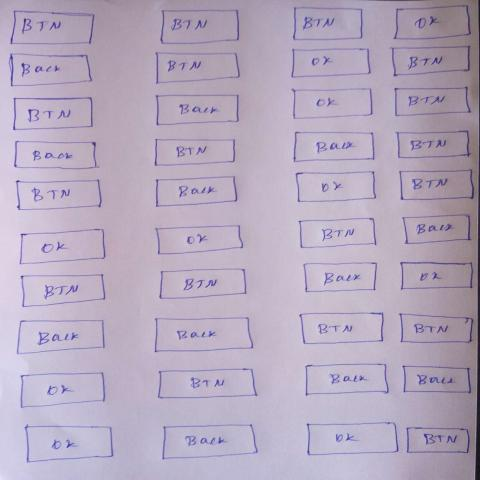Button: (154, 317, 255, 355), (161, 425, 260, 462), (25, 424, 115, 464), (20, 372, 107, 410), (19, 229, 107, 266), (16, 320, 106, 356), (158, 369, 260, 400), (308, 423, 401, 457), (9, 11, 97, 46), (9, 53, 95, 88), (155, 52, 242, 86), (20, 275, 107, 309), (160, 10, 242, 46), (299, 312, 387, 345), (306, 364, 391, 398), (158, 268, 248, 300), (13, 97, 95, 132), (155, 95, 241, 128), (394, 6, 472, 42), (155, 225, 245, 256), (16, 180, 103, 212), (296, 171, 378, 204), (303, 261, 380, 296), (398, 259, 479, 292), (293, 132, 376, 164), (155, 176, 238, 208), (398, 312, 476, 346), (292, 89, 373, 121), (292, 7, 365, 42), (14, 141, 99, 171), (399, 169, 476, 202), (299, 218, 378, 250), (291, 48, 372, 79), (394, 87, 472, 118), (154, 139, 237, 168), (396, 130, 473, 160), (402, 214, 473, 245), (402, 367, 473, 395), (407, 428, 471, 455)
